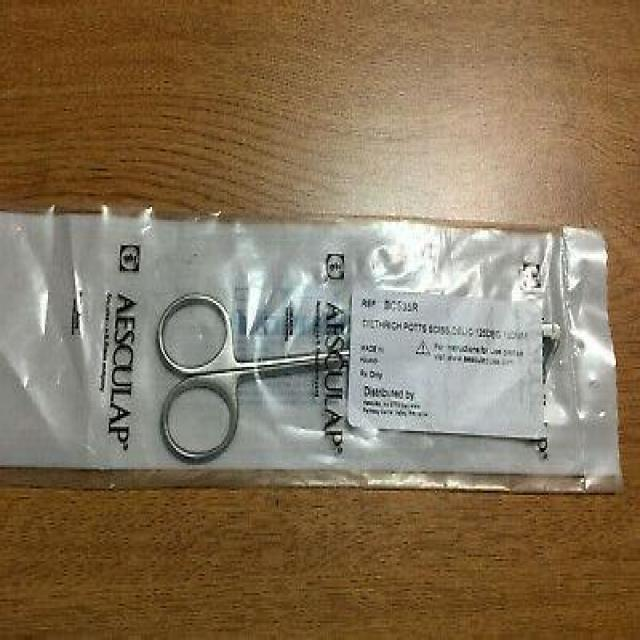Potts: (153, 288, 564, 467)
